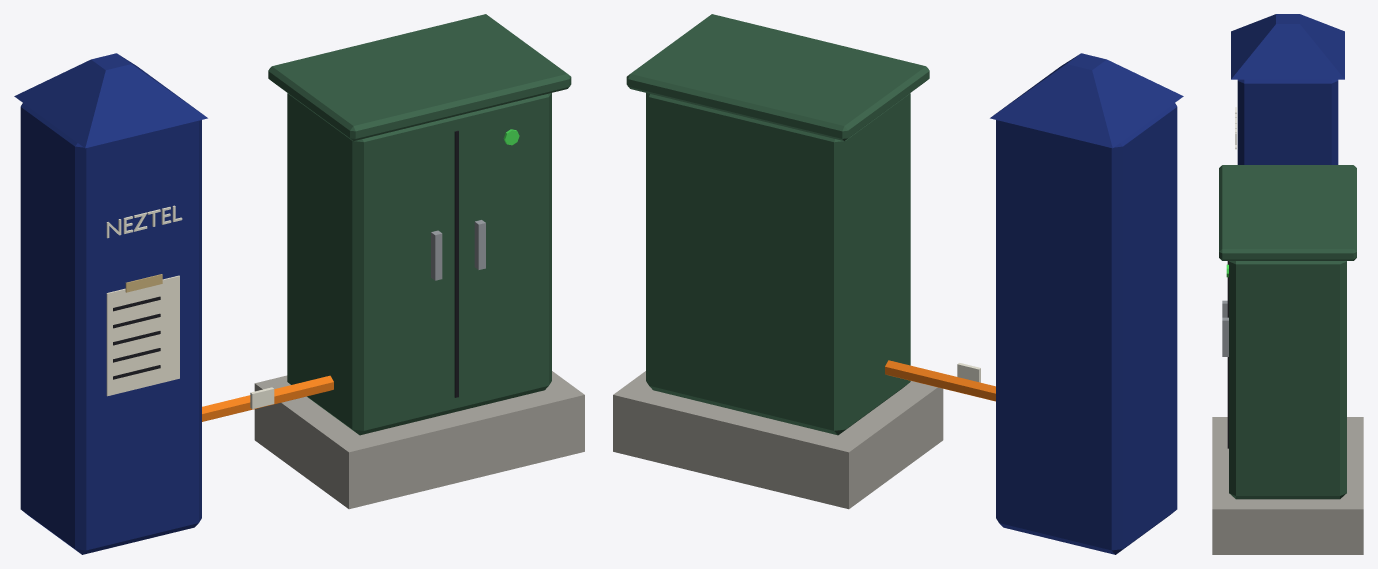
Rendered from site.leased-line.glb.
The picture shows the model from 3 angles, left to right: view 1: azimuth 30°, elevation 25°; view 2: azimuth 150°, elevation 25°; view 3: azimuth 270°, elevation 25°; orthographic projection. The views are drawn at different scales.
Parts seen in each view (by area): view 1: tel-body, pillar, tel-plinth, tel-roof, pillar-cap, form, handover, tel-seam, pillar-text; view 2: tel-body, pillar, tel-plinth, tel-roof, pillar-cap, handover; view 3: tel-body, tel-roof, tel-plinth, pillar, pillar-cap, tel-handle1, tel-seam.
Part boxes in pixels (x1,y1,x2,y2): tel-body: (287, 93, 551, 435); pillar: (20, 103, 201, 554); tel-plinth: (254, 371, 584, 509); tel-roof: (268, 14, 571, 141); pillar-cap: (14, 53, 207, 148); form: (106, 275, 179, 396); handover: (202, 375, 333, 421); tel-seam: (454, 130, 458, 397); pillar-text: (106, 205, 182, 238); tel-body: (646, 93, 910, 435); pillar: (996, 103, 1177, 554); tel-plinth: (613, 371, 943, 509); tel-roof: (626, 14, 929, 141); pillar-cap: (990, 53, 1183, 148); handover: (885, 360, 995, 401); tel-body: (1229, 261, 1346, 499); tel-roof: (1219, 165, 1356, 260); tel-plinth: (1212, 417, 1363, 554); pillar: (1237, 79, 1338, 164); pillar-cap: (1231, 14, 1344, 79); tel-handle1: (1222, 317, 1228, 356); tel-seam: (1227, 261, 1228, 448).
Size of the model in its own units: 1.35 by 1.21 by 0.45.
